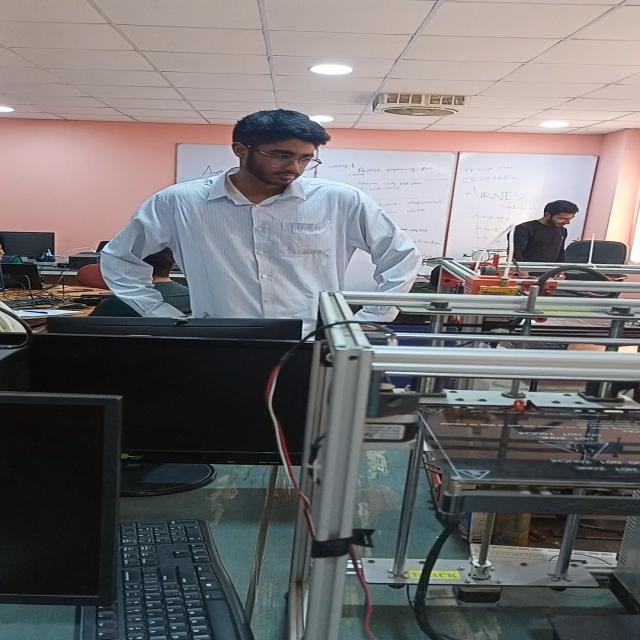dress: (93, 165, 424, 328)
glasses: (241, 141, 329, 177)
